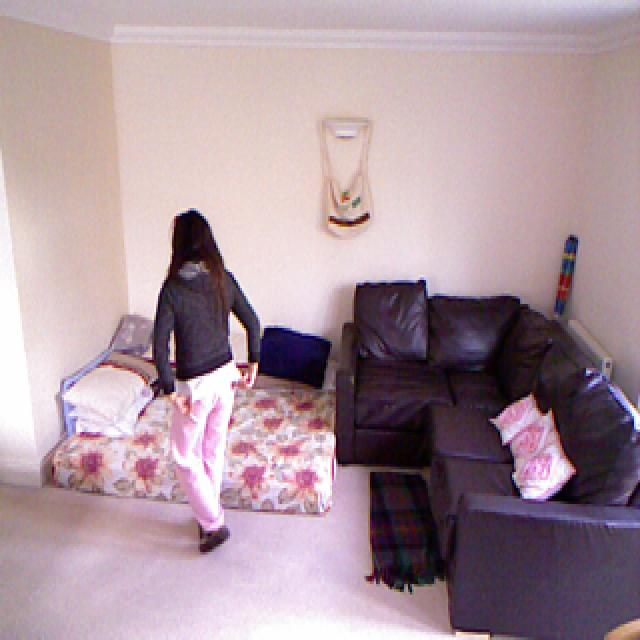standing: (158, 196, 263, 566)
